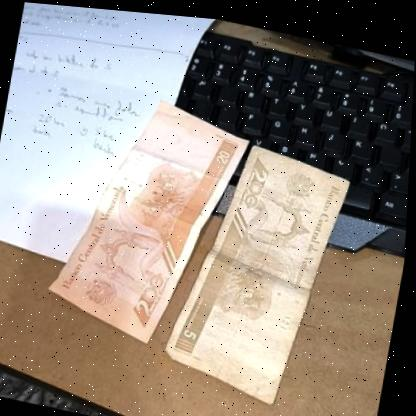five-back-vef: (162, 125, 355, 409)
twenty-back-vef: (42, 77, 255, 368)
